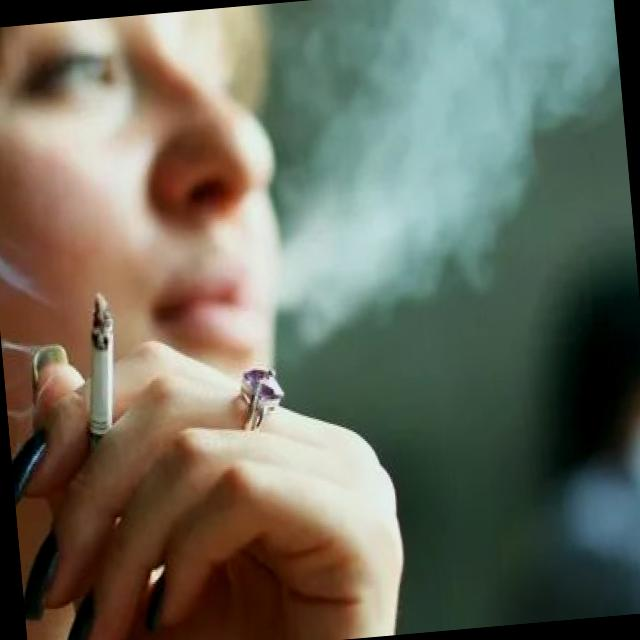smoke: (70, 284, 129, 453)
